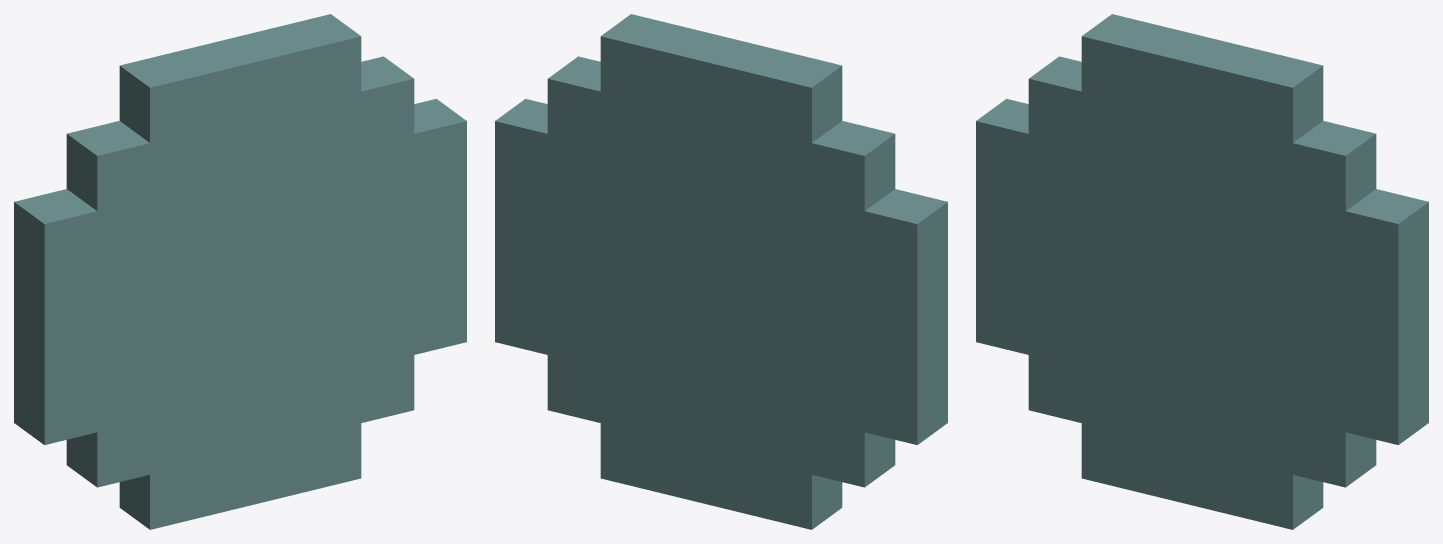
Rendered from Coin_Small_1.dae.
3 views of the same model, side by side, from view 1: azimuth 30°, elevation 25°; view 2: azimuth 150°, elevation 25°; view 3: azimuth 330°, elevation 25° (orthographic).
Visible parts, largest first — view 1: Coin_Small_1; view 2: Coin_Small_1; view 3: Coin_Small_1.
Boxes of the visible parts, x1,y1,x2,y2 form: Coin_Small_1: (14,14,466,529); Coin_Small_1: (495,14,947,529); Coin_Small_1: (976,14,1428,529).
Size of the model in its own units: 0.2 by 0.025 by 0.2.
